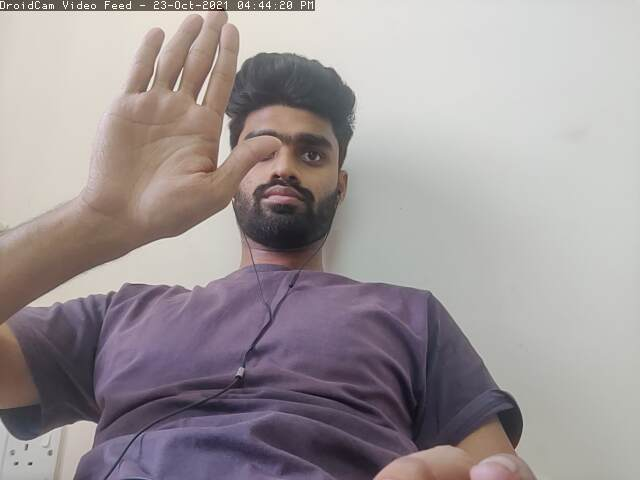Stop: (82, 11, 281, 240)
